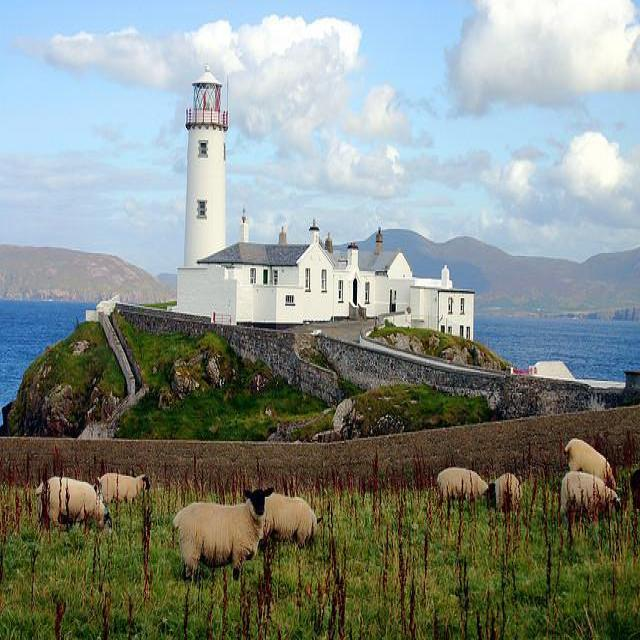Sheep: (173, 458, 275, 566), (264, 493, 323, 548), (52, 482, 112, 534), (564, 440, 618, 492)
